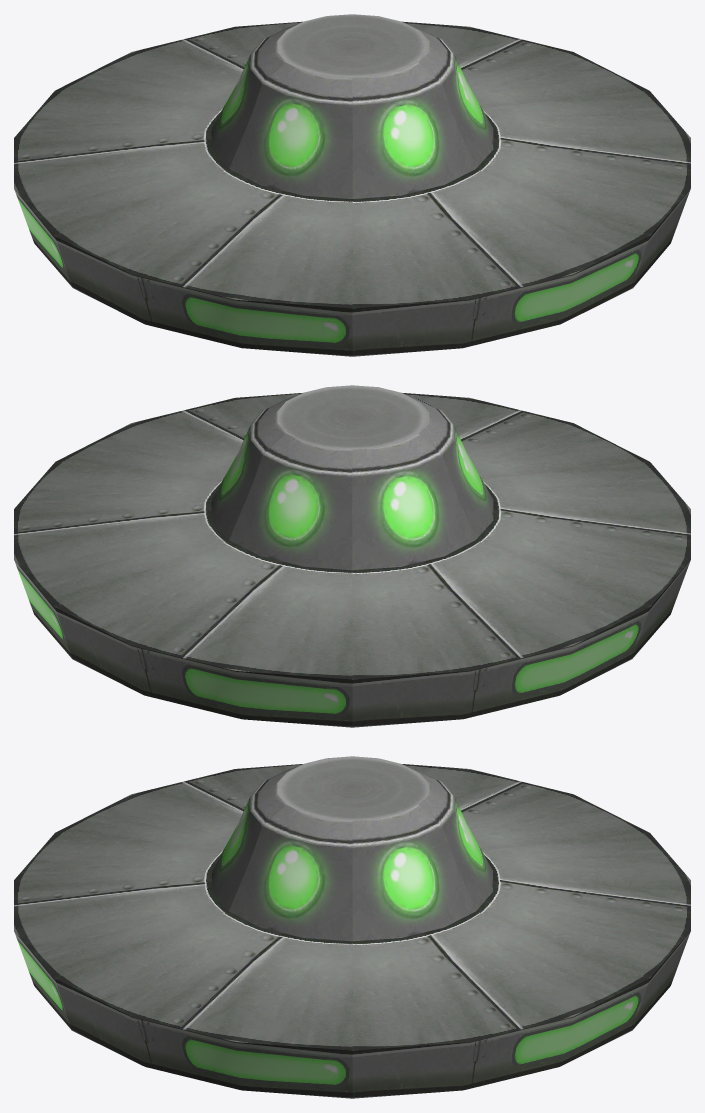
File: ufo.obj
3 views of the same model, one above another, from view 1: azimuth 30°, elevation 25°; view 2: azimuth 150°, elevation 25°; view 3: azimuth 270°, elevation 25° (orthographic).
Visible parts, largest first — view 1: default; view 2: default; view 3: default.
Boxes of the visible parts, x1,y1,x2,y2 form: default: (14, 14, 690, 356); default: (14, 385, 690, 727); default: (14, 756, 690, 1098).
Bounding box in the file's own units: 123 × 45.65 × 121.
1 material, 1 textured.
